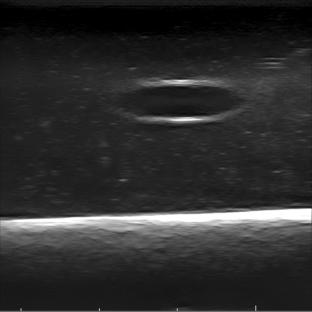vessel: (111, 79, 244, 123)
